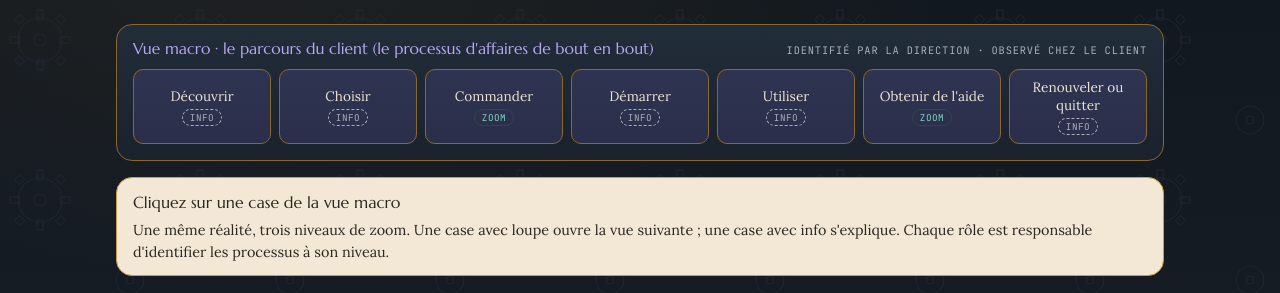
ZoomMap › une case info explique sans ouvrir de vue
Click the button "Découvrir info" at (202, 107), box x1=133 y1=69 x2=271 y2=144
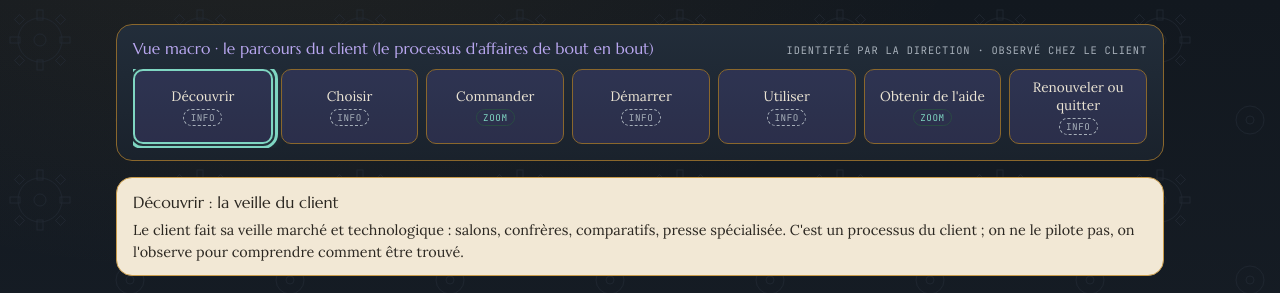
Now the text "veille marché et technologique" is shown, box x1=133 y1=221 x2=1134 y2=261
